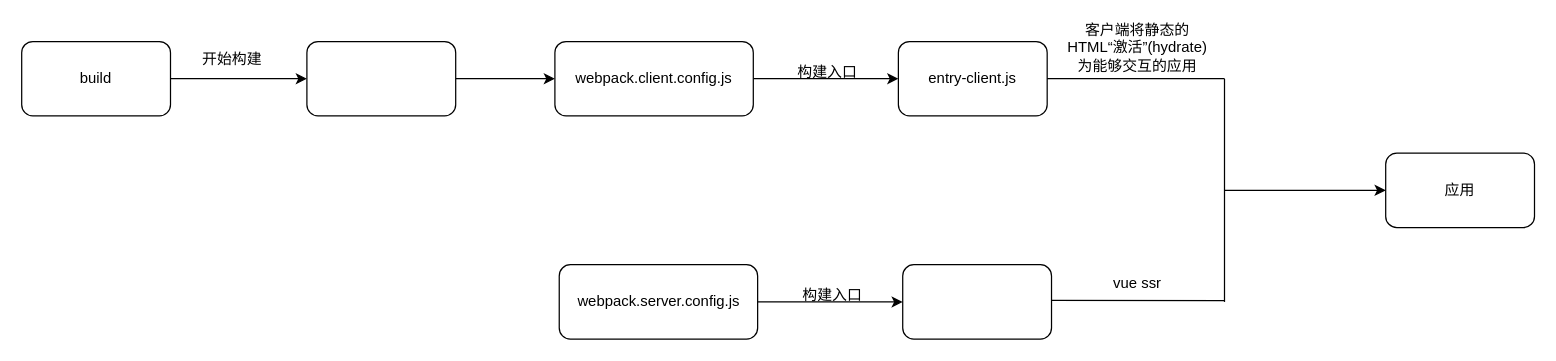
Image size: 1556x361. Some labels were removed from this diagram. The shapes that lost their labels are listed below. From the top down, each one's box as (x1, y1, x2, y2) in pixels, then its label:
(306, 40, 456, 116): ssr.build.js
(901, 264, 1052, 339): entry-server.js
